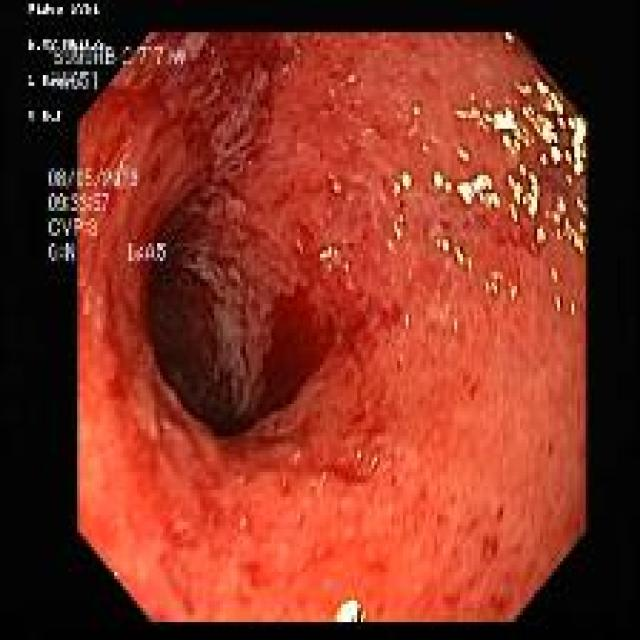ulcerative-colitis: (78, 33, 585, 622)
